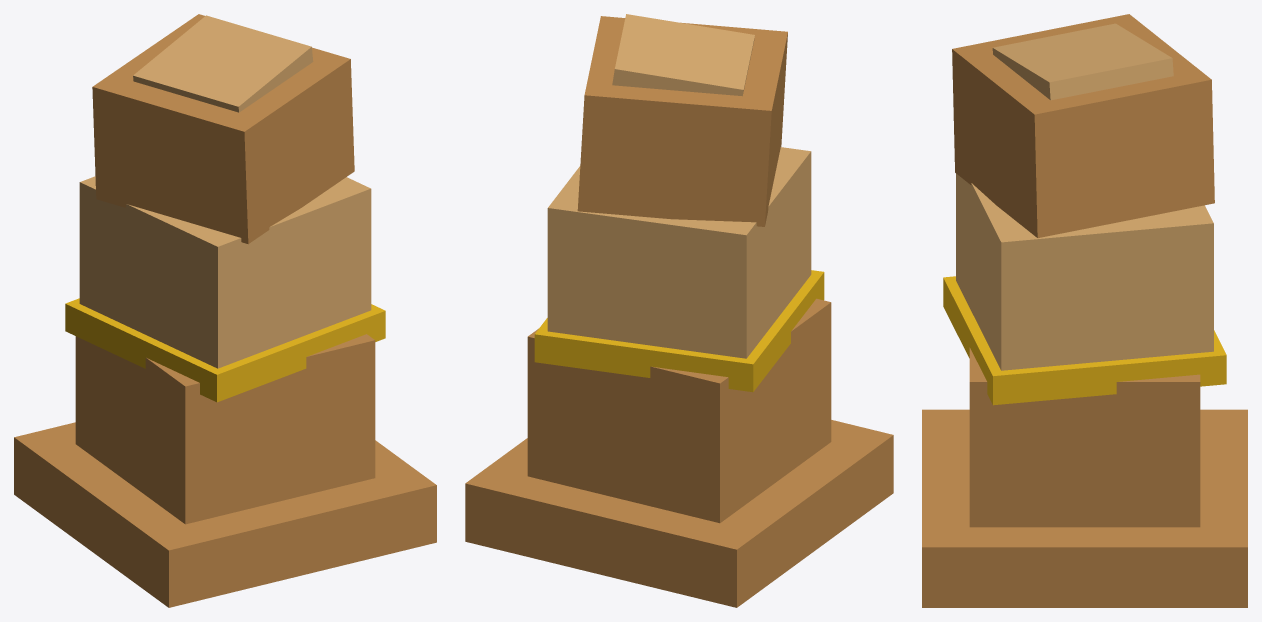
Rendered from env_r5_broken_column.glb.
3 views of the same model, side by side, from view 1: azimuth 30°, elevation 25°; view 2: azimuth 150°, elevation 25°; view 3: azimuth 270°, elevation 25° (orthographic). The views are drawn at different scales.
Parts seen in each view (by area): view 1: env_r5_broken_column; view 2: env_r5_broken_column; view 3: env_r5_broken_column.
Boxes of the visible parts, bbox=[...] form: env_r5_broken_column: bbox=[14, 14, 436, 607]; env_r5_broken_column: bbox=[465, 14, 893, 607]; env_r5_broken_column: bbox=[922, 14, 1247, 607].
Size of the model in its own units: 1.2 by 2 by 1.2.
1 material, 1 textured.
